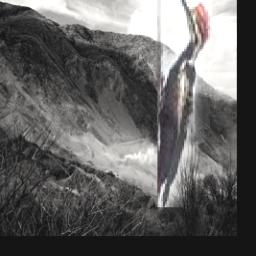Woodpecker: (156, 0, 211, 208)
